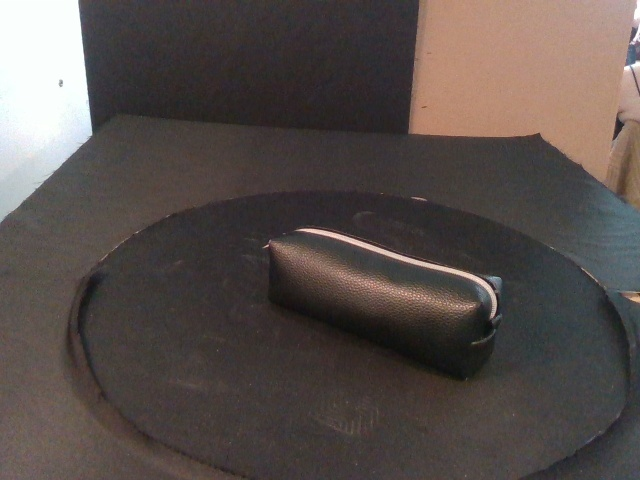pencil_case: (267, 223, 503, 381)
